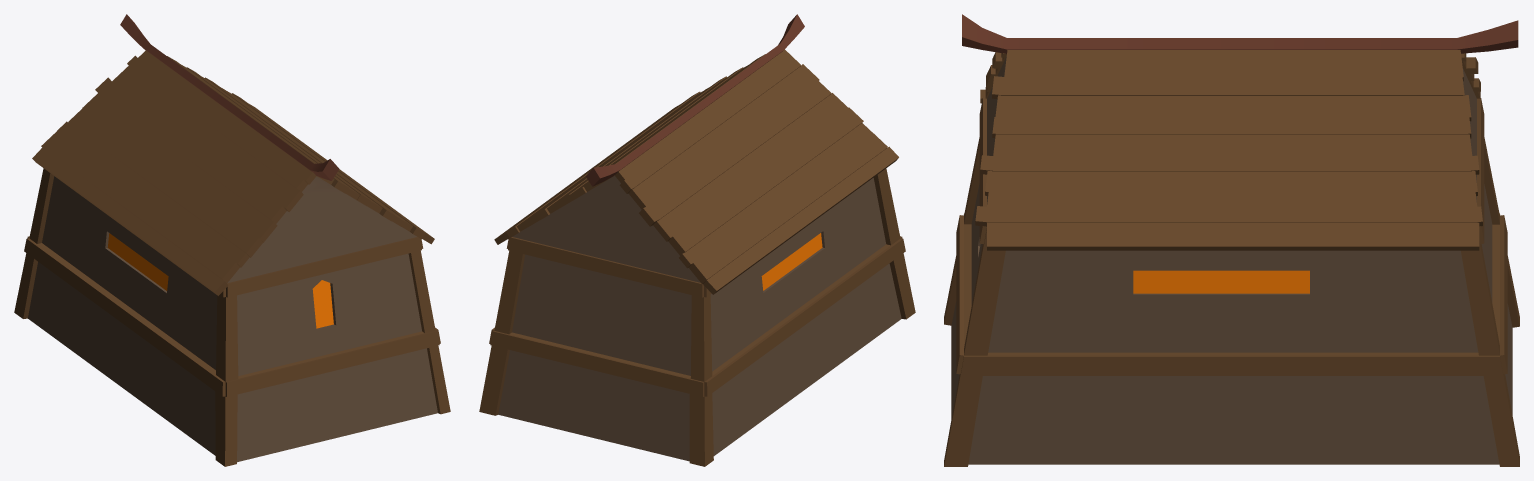
File: Building_Viking_02.fbx
The picture shows the model from 3 angles, left to right: view 1: azimuth 30°, elevation 25°; view 2: azimuth 150°, elevation 25°; view 3: azimuth 270°, elevation 25°; orthographic projection. The views are drawn at different scales.
Parts seen in each view (by area): view 1: Building_Viking_02; view 2: Building_Viking_02; view 3: Building_Viking_02.
Boxes of the visible parts, left/top/right/bottom form: Building_Viking_02: left=14, top=14, right=450, bottom=466; Building_Viking_02: left=479, top=14, right=915, bottom=466; Building_Viking_02: left=944, top=14, right=1519, bottom=466.
Size of the model in its own units: 336 by 394 by 543.
